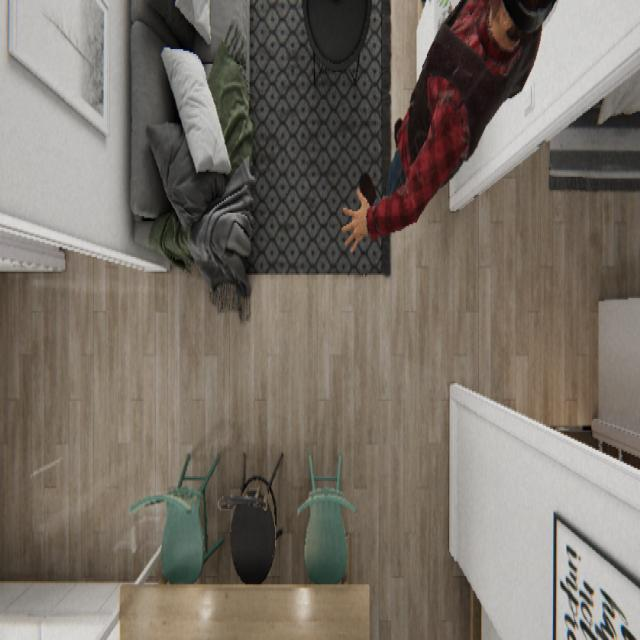Human: (340, 0, 557, 254)
